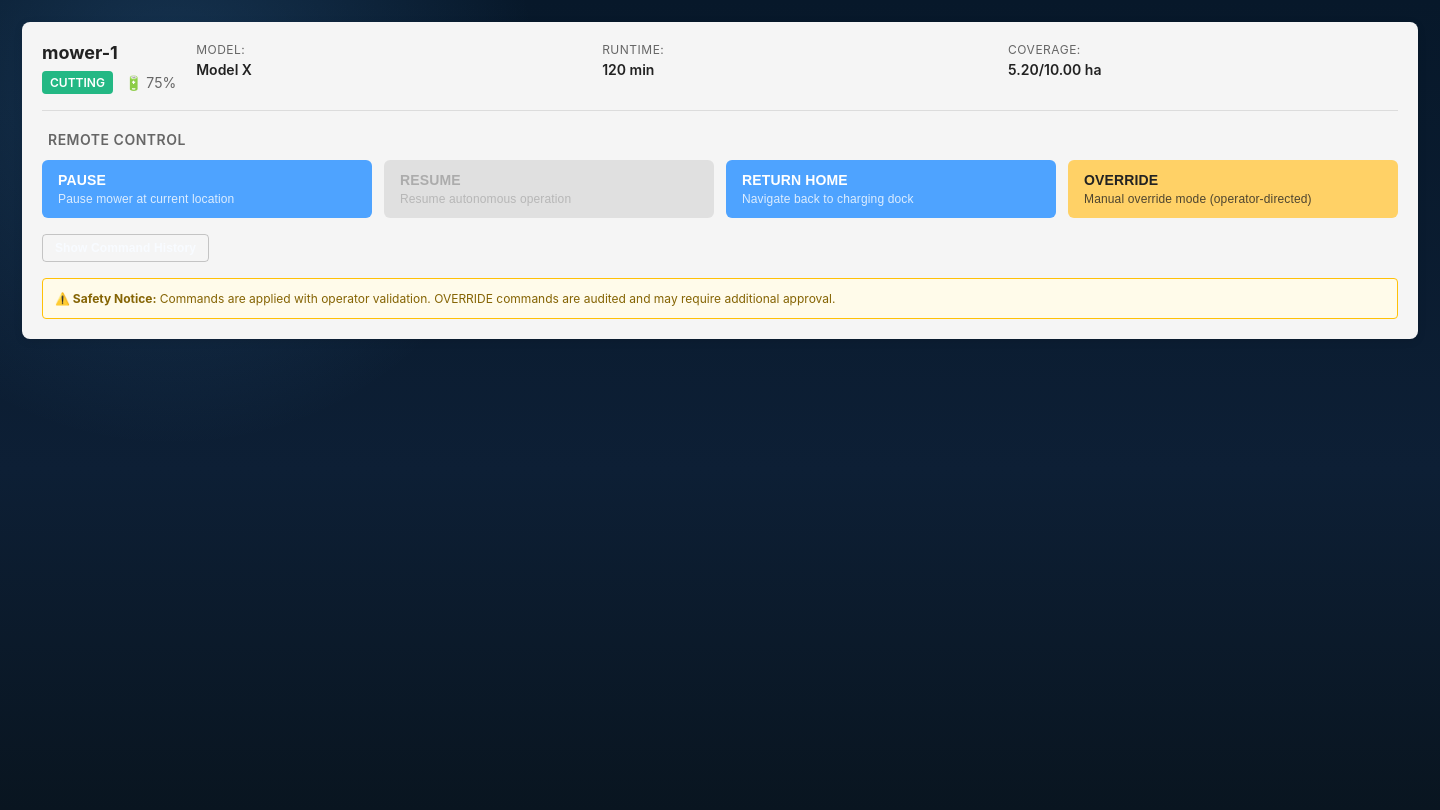
Test: MowerControlPanel.vue › displays error message when command fails
The width and height of the screenshot is (1440, 810).
Click the button with class "command-btn" that starts with "PAUSE": (207, 189) x1=42 y1=160 x2=372 y2=218
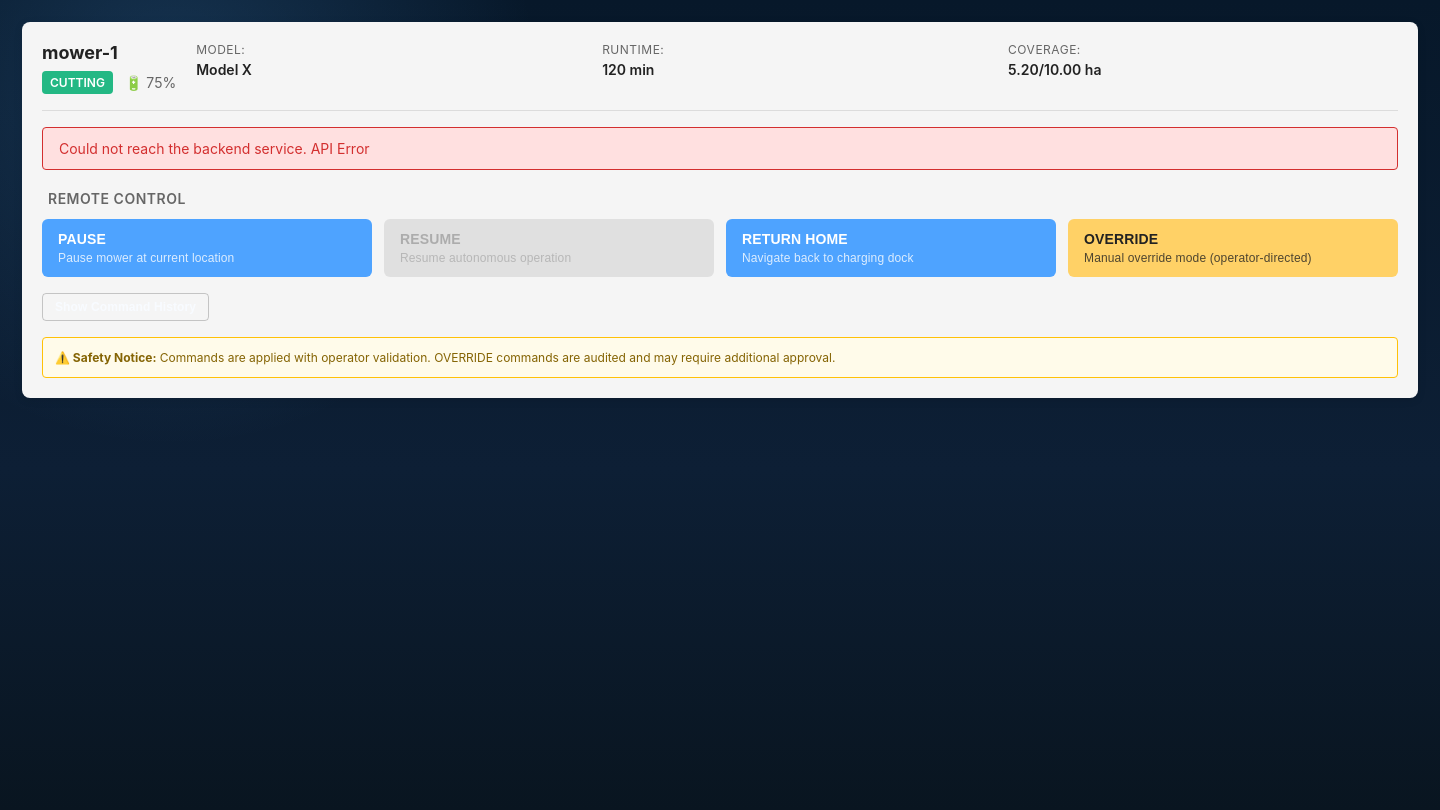
Check: the text "API Error" is shown, box x1=59 y1=140 x2=370 y2=157
